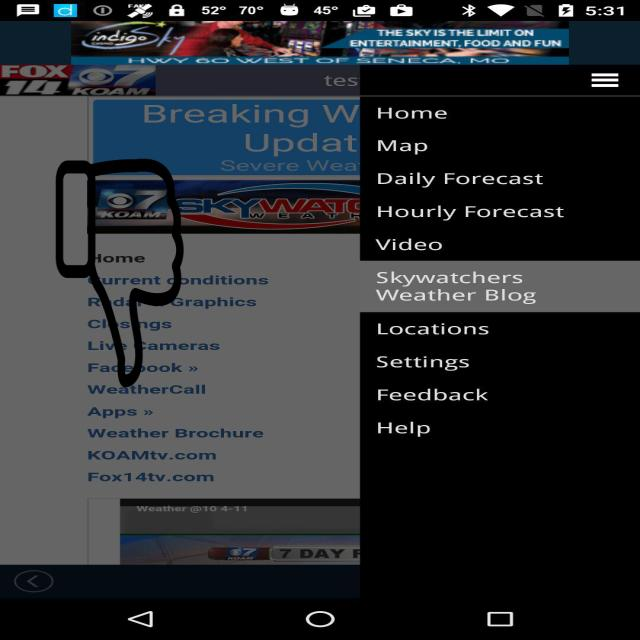obstruction: (54, 159, 185, 387)
